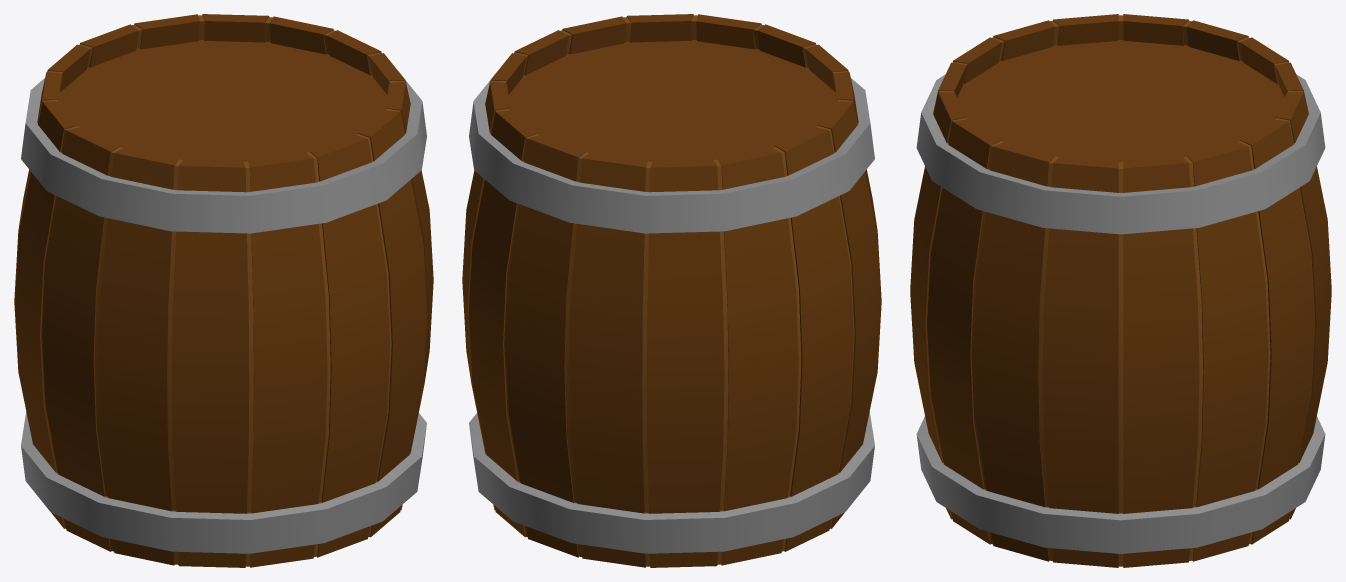
The model's file is Barrel.fbx.
The picture shows the model from 3 angles, left to right: view 1: azimuth 30°, elevation 25°; view 2: azimuth 150°, elevation 25°; view 3: azimuth 270°, elevation 25°; orthographic projection.
Parts seen in each view (by area): view 1: Barrel; view 2: Barrel; view 3: Barrel.
Part boxes in pixels (x1=…): Barrel: x1=14, y1=14, x2=433, y2=567; Barrel: x1=462, y1=14, x2=881, y2=567; Barrel: x1=910, y1=14, x2=1331, y2=567.
Size of the model in its own units: 5.99 by 6.27 by 5.99.
